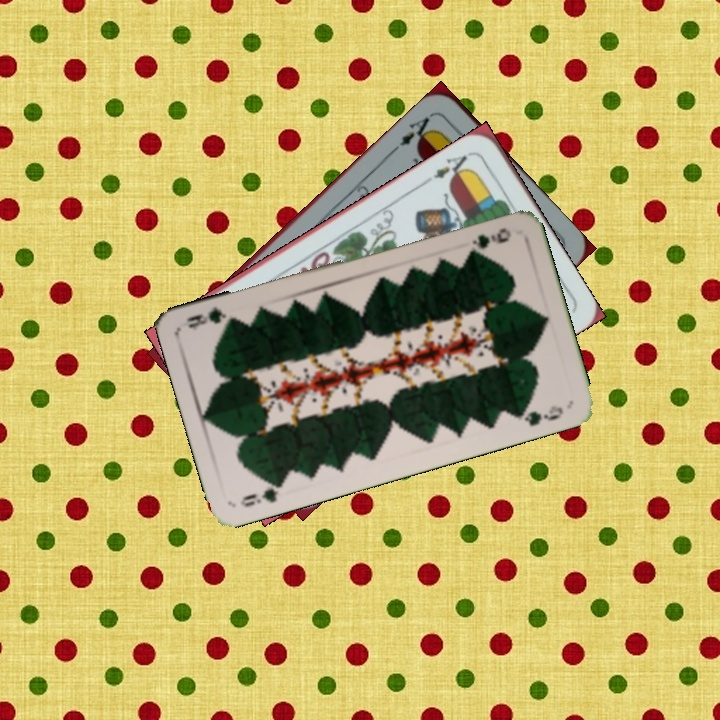EA: (429, 147, 475, 184), (395, 113, 438, 149)
G9: (236, 476, 288, 510), (468, 223, 514, 252)
